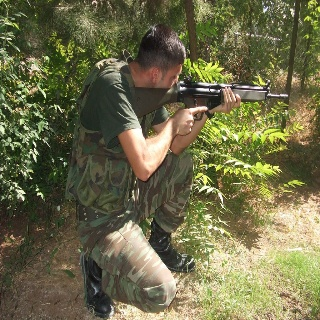rifle: (124, 79, 290, 120)
